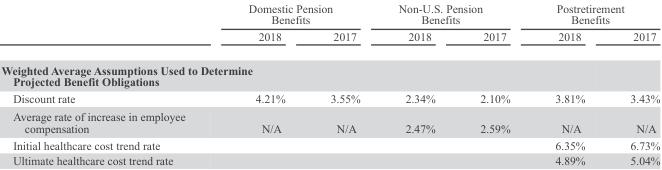table: (0, 1, 659, 166)
table column: (0, 1, 216, 166), (216, 1, 307, 166), (378, 1, 457, 166), (457, 1, 532, 166), (532, 1, 606, 166), (307, 1, 378, 166), (606, 1, 659, 166)
table column header: (0, 1, 659, 53)
table projected row header: (0, 53, 659, 89)
table row: (0, 53, 659, 89), (0, 107, 659, 136), (0, 1, 659, 27), (0, 27, 659, 53), (0, 89, 659, 107), (0, 136, 659, 152), (0, 152, 659, 166)
table spanning cell: (216, 1, 378, 27), (378, 1, 532, 27), (532, 1, 659, 27)
